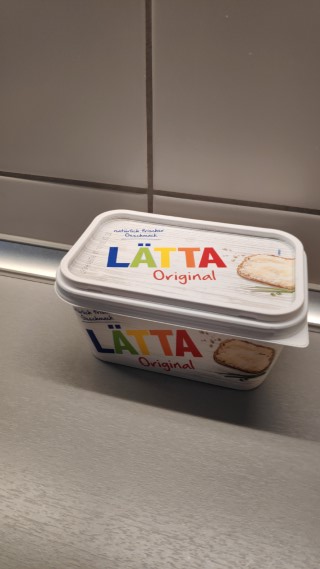laetta: (53, 207, 310, 392)
